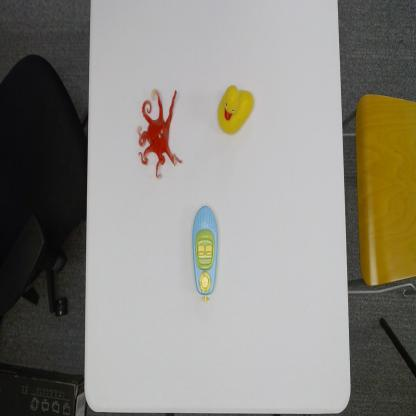Boat: (191, 202, 220, 304)
Duck: (215, 82, 257, 138)
Octopus: (135, 85, 183, 179)
